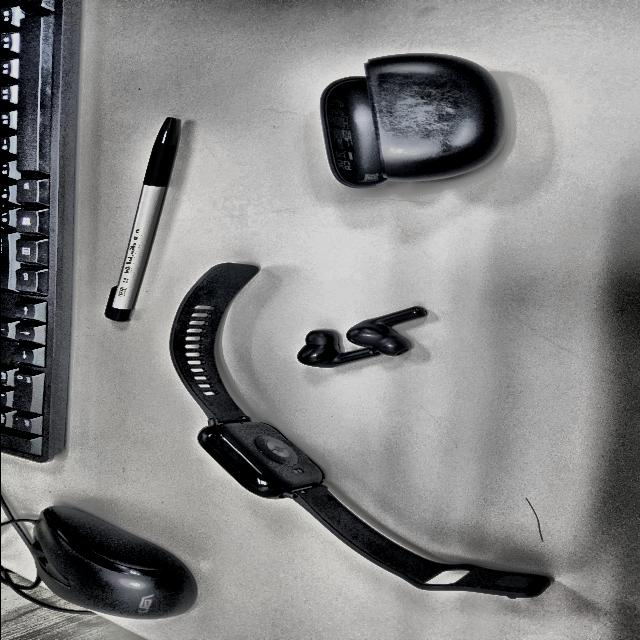Bluetooth headphones: (319, 53, 503, 189), (345, 306, 424, 356), (302, 329, 357, 364)
Electronic watch: (170, 263, 548, 597)
Keyboard: (0, 0, 80, 463)
MOUSE: (30, 506, 195, 619)
